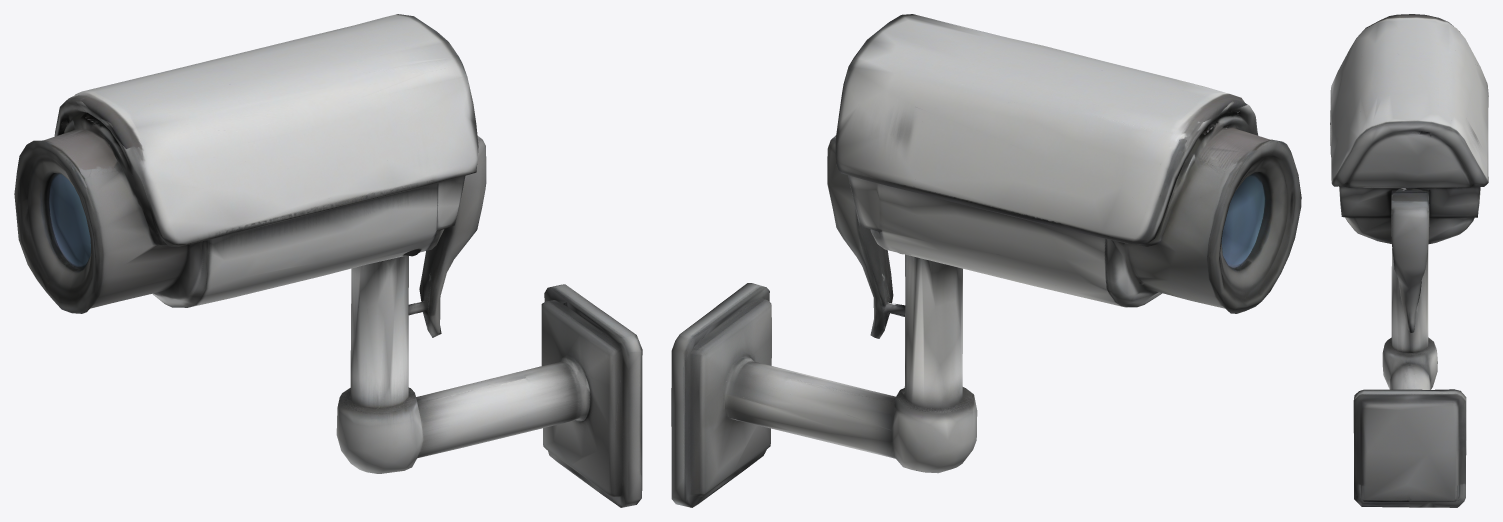
Rendered from Camera.fbx.
3 views of the same model, side by side, from view 1: azimuth 30°, elevation 25°; view 2: azimuth 150°, elevation 25°; view 3: azimuth 270°, elevation 25° (orthographic). The views are drawn at different scales.
Visible parts, largest first — view 1: Mesh_0; view 2: Mesh_0; view 3: Mesh_0.
Boxes of the visible parts, <box> form: Mesh_0: <box>14,14,642,507</box>; Mesh_0: <box>671,14,1301,507</box>; Mesh_0: <box>1330,14,1488,507</box>.
Size of the model in its own units: 200 by 172 by 74.81.
Materials: 1 (1 with a texture image).
